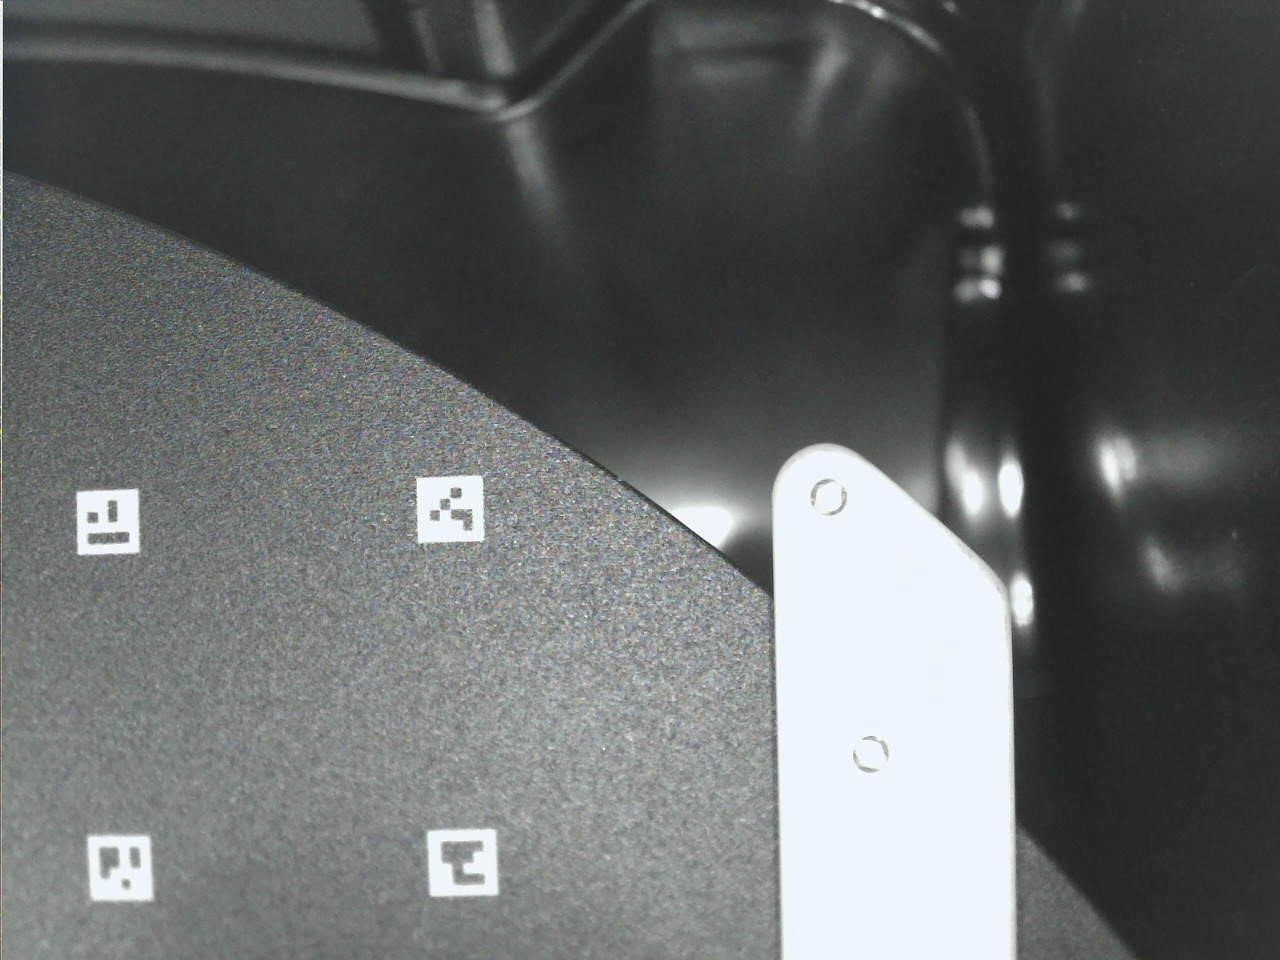forktip: (753, 409, 1038, 960)
